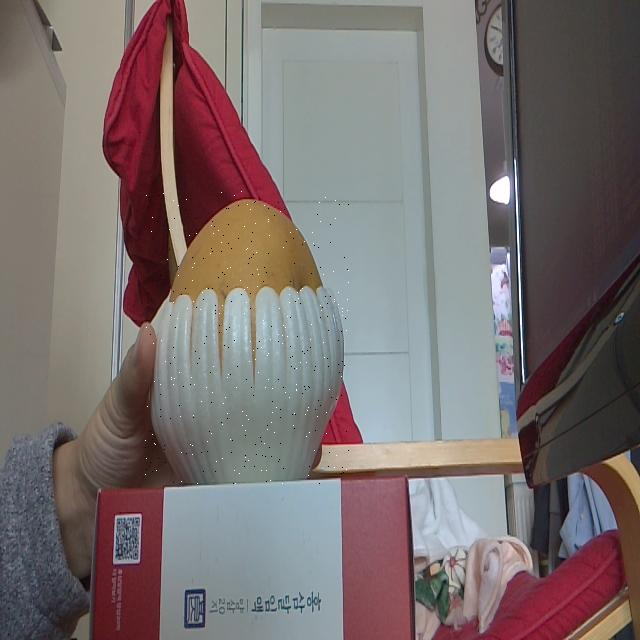pear: (145, 190, 349, 484)
